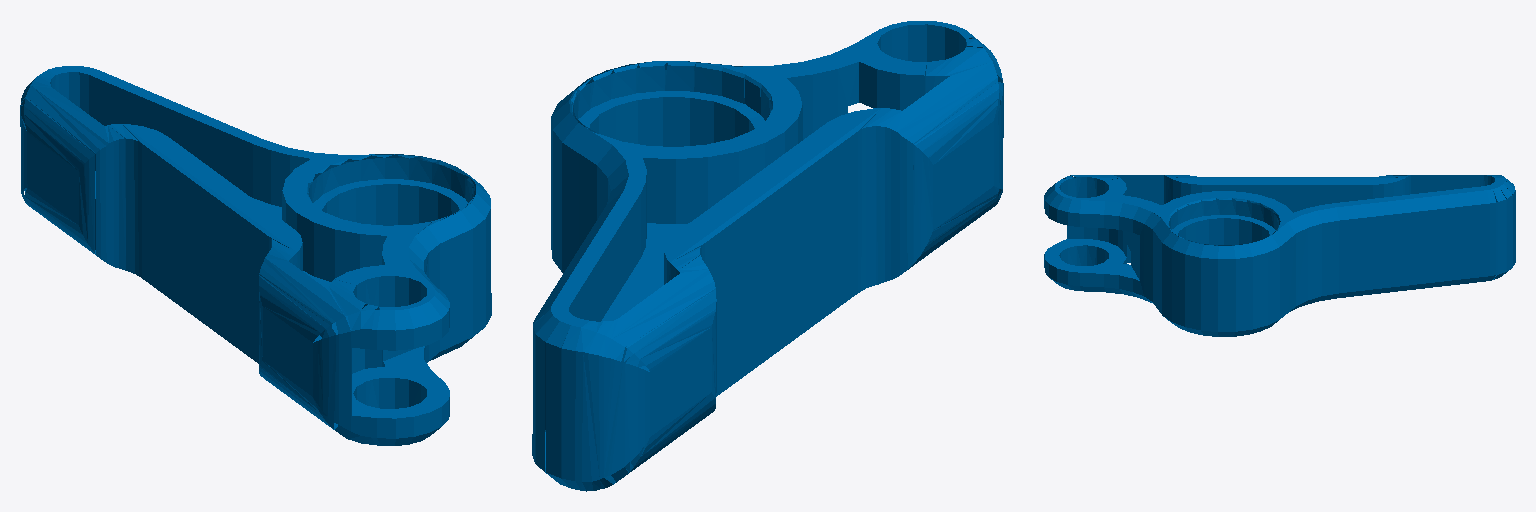
The robot description file, URDF, robot "draco":
<?xml version="1.0" ?>
<robot name="draco" xmlns:xacro="http://ros.org/wiki/xacro">

    <link name="world"/>
    <link name="body">
        <inertial>
            <origin rpy="0 0 0" xyz="0 0 0"/>
            <mass value="11.313"/>
            <inertia ixx="0.25" ixy="-0.002" ixz="0.006" iyy="0.268" iyz="0.002" izz="0.114"/>
        </inertial>
        <visual>
            <origin rpy="1.57 0 0" xyz = "-0.27 0.139 -0.115"/>
            <geometry>
                <mesh filename="meshes/body.STL" scale="0.001 0.001 0.001"/>
            </geometry>
        </visual>
        <!--<collision>-->
            <!--<origin rpy="1.57 0 0" xyz = "-0.27 0.139 -0.115"/>-->
            <!--<geometry>-->
                <!--<mesh filename="meshes/body.STL" scale="0.001 0.001 0.001"/>-->
            <!--</geometry>-->
        <!--</collision>-->
    </link>

    <joint name="ground_joint" type="floating">
        <origin xyz="0 0 0" rpy="0 0 0" />
        <parent link="world" />
        <child link="body" />
    </joint>

    <joint name="bodyPitch" type="continuous">
        <origin rpy="0.0 0.0 0.0" xyz="0.007 -0.007 -0.115"/>
        <axis xyz="0 1 0"/>
        <parent link="body"/>
        <child link="upperLeg"/>
    </joint>

    <link name="upperLeg">
        <inertial>
            <origin rpy="0 0 0" xyz="0.0061 0 -0.2473"/>
            <mass value="5.4818"/>
            <inertia ixx="0.0777" ixy="-0.0001" ixz="-0.0005" iyy="0.0761" iyz="0.0084" izz="0.0061"/>
        </inertial>
        <visual>
            <origin rpy="0 3.14 -1.57" xyz="-0.0735 -0.087 0.03"/>
            <geometry>
                <mesh filename="meshes/upperLeg.STL" scale="0.001 0.001 0.001"/>
            </geometry>
        </visual>
        <!--<collision>-->
            <!--<origin rpy="0 3.14 -1.57" xyz="-0.0735 -0.087 0.03"/>-->
            <!--<geometry>-->
                <!--<mesh filename="meshes/upperLeg.STL" scale="0.001 0.001 0.001"/>-->
            <!--</geometry>-->
        <!--</collision>-->
    </link>

    <joint name="kneePitch" type="continuous">
        <origin rpy="0.0 0.0 0.0" xyz="0 0 -0.49"/>
        <axis xyz="0 1 0"/>
        <parent link="upperLeg"/>
        <child link="lowerLeg"/>
    </joint>

    <link name="lowerLeg">
        <inertial>
            <origin rpy="0 0 0" xyz="-0.0038 -0.0022 -0.2647"/>
            <mass value="3.7701"/>
            <inertia ixx="0.0777" ixy="-0.0001" ixz="-0.0005" iyy="0.0761" iyz="0.0084" izz="0.0061"/>
        </inertial>
        <visual>
            <origin rpy="0 0 -1.57" xyz="-0.075 0.05 -0.513"/>
            <geometry>
                <mesh filename="meshes/lowerLeg.STL" scale="0.001 0.001 0.001"/>
            </geometry>
        </visual>
        <!--<collision>-->
            <!--<origin rpy="0 0 -1.57" xyz="-0.075 0.05 -0.513"/>-->
            <!--<geometry>-->
                <!--<mesh filename="meshes/lowerLeg.STL" scale="0.001 0.001 0.001"/>-->
            <!--</geometry>-->
        <!--</collision>-->
    </link>

    <joint name="ankle" type="continuous">
        <origin rpy="0.0 0.0 0.0" xyz="0 0 -0.49"/>
        <axis xyz="0 1 0"/>
        <parent link="lowerLeg"/>
        <child link="foot"/>
    </joint>

    <link name="foot">
        <inertial>
            <origin rpy="0 0 0" xyz="0.0183 0 -0.0232"/>
            <mass value="0.6817573"/>
            <inertia ixx="0.001766" ixy="-0.0000003" ixz="0.0000006" iyy="0.0020957" iyz="-0.0001134" izz="0.0004916"/>
        </inertial>
        <visual>
            <!--<origin rpy="1.57 0 1.57" xyz="0 0 0"/>-->
            <origin rpy="1.57 0 1.57" xyz="-0.07 -0.05 -0.03"/>
            <geometry>
                <mesh filename="meshes/foot.STL" scale="0.001 0.001 0.001"/>
            </geometry>
        </visual>
        <collision>
            <origin rpy="1.57 0 1.57" xyz="-0.07 -0.05 -0.03"/>
            <geometry>
                <mesh filename="meshes/foot.STL" scale="0.001 0.001 0.001"/>
            </geometry>
        </collision>
    </link>

<!-- Foot Virtual Contact Point -->
   <!--<link name="FootOutFront">-->
    <!--<inertial>-->
      <!--<mass value="0.000000000001"/>-->
      <!--<origin rpy="0 0 0" xyz="0 0 0"/>-->
      <!--<inertia ixx="1.0e-12" ixy="0.0" ixz="0.0" iyy="1.0e-12" iyz="0.0" izz="1.0e-12"/>-->
    <!--</inertial>-->
  <!--</link>-->
  <!--<joint name="foot_Offset1" type="fixed">-->
    <!--<origin rpy="0.0 0.0 0.0" xyz="0.135 0.04 -0.034"/>-->
    <!--<axis xyz="0 0 1"/>-->
    <!--<parent link="foot"/>-->
    <!--<child link="FootOutFront"/>-->
  <!--</joint>-->

  <!--<link name="FootOutBack">-->
    <!--<inertial>-->
      <!--<mass value="0.000000000001"/>-->
      <!--<origin rpy="0 0 0" xyz="0 0 0"/>-->
      <!--<inertia ixx="1.0e-12" ixy="0.0" ixz="0.0" iyy="1.0e-12" iyz="0.0" izz="1.0e-12"/>-->
    <!--</inertial>-->
  <!--</link>-->
  <!--<joint name="foot_Offset2" type="fixed">-->
    <!--<origin rpy="0.0 0.0 0.0" xyz="-0.059 0.04 -0.034"/>-->
    <!--<axis xyz="0 0 1"/>-->
    <!--<parent link="foot"/>-->
    <!--<child link="FootOutBack"/>-->
  <!--</joint>-->

  <!--<link name="FootInBack">-->
    <!--<inertial>-->
      <!--<mass value="0.000000000001"/>-->
      <!--<origin rpy="0 0 0" xyz="0 0 0"/>-->
      <!--<inertia ixx="1.0e-12" ixy="0.0" ixz="0.0" iyy="1.0e-12" iyz="0.0" izz="1.0e-12"/>-->
    <!--</inertial>-->
  <!--</link>-->
  <!--<joint name="foot_Offset3" type="fixed">-->
    <!--<origin rpy="0.0 0.0 0.0" xyz="-0.059 -0.04 -0.034"/>-->
    <!--<axis xyz="0 0 1"/>-->
    <!--<parent link="foot"/>-->
    <!--<child link="FootInBack"/>-->
  <!--</joint>-->

  <!--<link name="FootInFront">-->
    <!--<inertial>-->
      <!--<mass value="0.000000000001"/>-->
      <!--<origin rpy="0 0 0" xyz="0 0 0"/>-->
      <!--<inertia ixx="1.0e-12" ixy="0.0" ixz="0.0" iyy="1.0e-12" iyz="0.0" izz="1.0e-12"/>-->
    <!--</inertial>-->
  <!--</link>-->
  <!--<joint name="foot_Offset4" type="fixed">-->
    <!--<origin rpy="0.0 0.0 0.0" xyz="0.135 -0.04 -0.034"/>-->
    <!--<axis xyz="0 0 1"/>-->
    <!--<parent link="foot"/>-->
    <!--<child link="FootInFront"/>-->
  <!--</joint>-->

</robot>

--- Facts derived from the render (not from the file) ---
The picture shows the robot from 3 angles, left to right: view 1: azimuth 30°, elevation 25°; view 2: azimuth 150°, elevation 25°; view 3: azimuth 270°, elevation 25°; orthographic projection.
Robot: draco — 5 links, 4 joints (3 continuous, 1 floating); root link world; default pose: every joint at zero.
Visible links, largest first — view 1: foot; view 2: foot; view 3: foot.
Link boxes in pixels (x1=…): foot: x1=20, y1=66, x2=491, y2=445; foot: x1=532, y1=21, x2=1003, y2=491; foot: x1=1044, y1=175, x2=1515, y2=336.
Size in the robot's own frame: 0 by 0.0001 by 0 metres.
Meshes: 4 distinct files referenced, 1 mesh visuals loaded (1 binary STL); not drawn: 3 (reference not matched to a file when rendering).